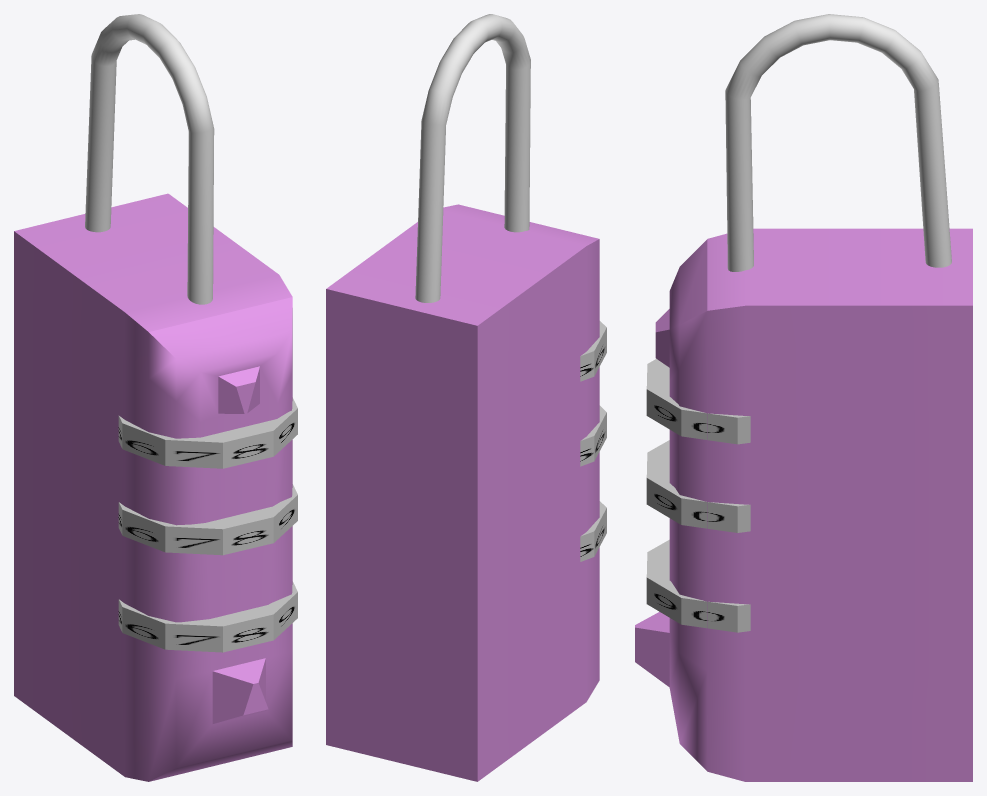
Rendered from lock.fbx.
3 renders of one model, left to right at view 1: azimuth 30°, elevation 25°; view 2: azimuth 150°, elevation 25°; view 3: azimuth 270°, elevation 25°, orthographic. The views are drawn at different scales.
Visible parts, largest first — view 1: Numbers, pTorus1, Lock2, Lock1, Lock; view 2: Numbers, pTorus1, Lock2, Lock1, Lock; view 3: Numbers, pTorus1, Lock1, Lock2, Lock.
Part boxes in pixels (<box>): Numbers: <box>14,193,292,781</box>; pTorus1: <box>85,14,214,304</box>; Lock2: <box>118,581,297,652</box>; Lock1: <box>118,484,297,555</box>; Lock: <box>118,397,297,468</box>; Numbers: <box>326,204,599,781</box>; pTorus1: <box>415,14,530,302</box>; Lock2: <box>580,501,606,561</box>; Lock1: <box>580,405,606,466</box>; Lock: <box>580,321,606,381</box>; Numbers: <box>635,228,972,781</box>; pTorus1: <box>725,14,951,271</box>; Lock1: <box>646,440,750,532</box>; Lock2: <box>646,539,750,632</box>; Lock: <box>646,359,750,444</box>.
Bounding box in the file's own units: 1.88 × 7.78 × 3.29.
